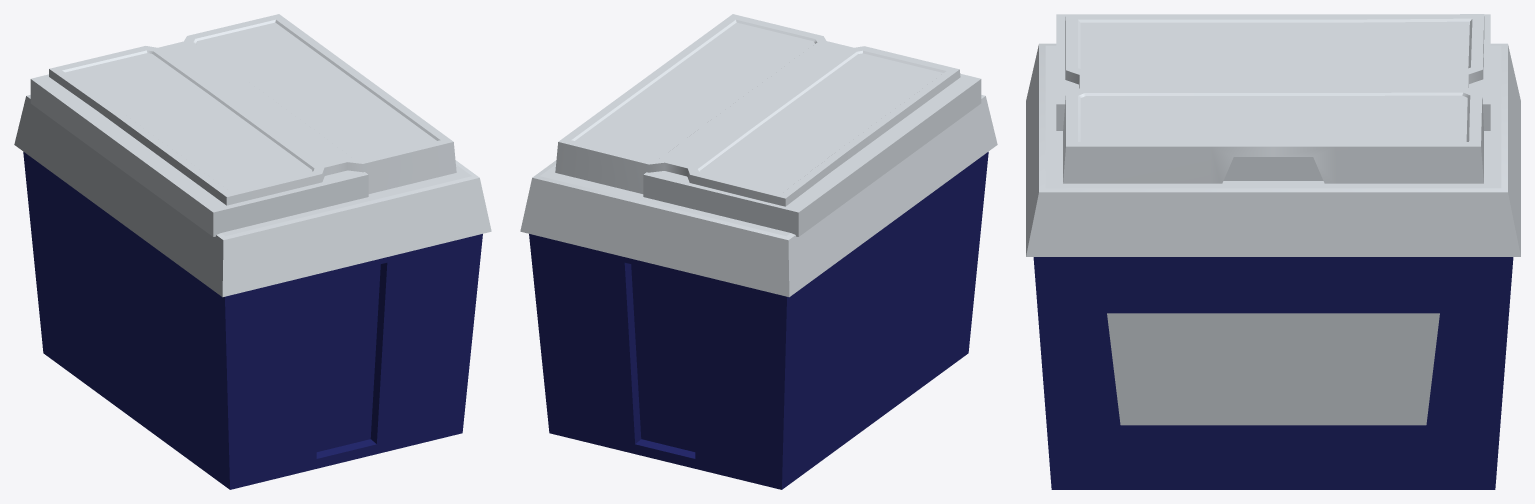
Rendered from Eski_Mesh_001.fbx.
The picture shows the model from 3 angles, left to right: view 1: azimuth 30°, elevation 25°; view 2: azimuth 150°, elevation 25°; view 3: azimuth 270°, elevation 25°; orthographic projection. The views are drawn at different scales.
Parts seen in each view (by area): view 1: Eski_Mesh_001; view 2: Eski_Mesh_001; view 3: Eski_Mesh_001.
Boxes of the visible parts, x1,y1,x2,y2 form: Eski_Mesh_001: (14,14,491,489); Eski_Mesh_001: (520,14,997,489); Eski_Mesh_001: (1026,14,1520,489).
Bounding box in the file's own units: 60.98 × 62.28 × 81.74.
